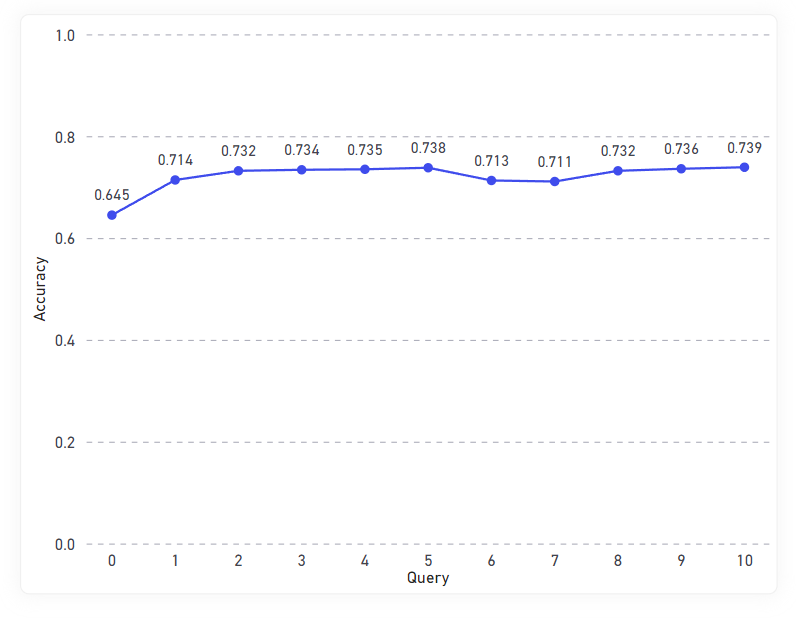

The dashboard page shown, as its layout file describes it:
{"tool":"powerbi","page":{"name":"Active Learner","canvas":[1280,720],"ordinal":0},"visuals":[{"type":"lineChart","fields":{"Y":["Sum(Active_Learner.Accuracy)"],"Category":["Active_Learner.Query"]},"box":[304.6,103.6,671.3,513.7],"z":0}]}

Visuals, with their boxes on the page's 1280x720 design canvas (x1, y1, x2, y2). These are canvas units, not pixel positions in the 796x621 screenshot, which may show the page scaled, cropped or inside an application window:
lineChart - Sum(Active_Learner.Accuracy) x Active_Learner.Query: [left=305, top=104, right=976, bottom=617]
